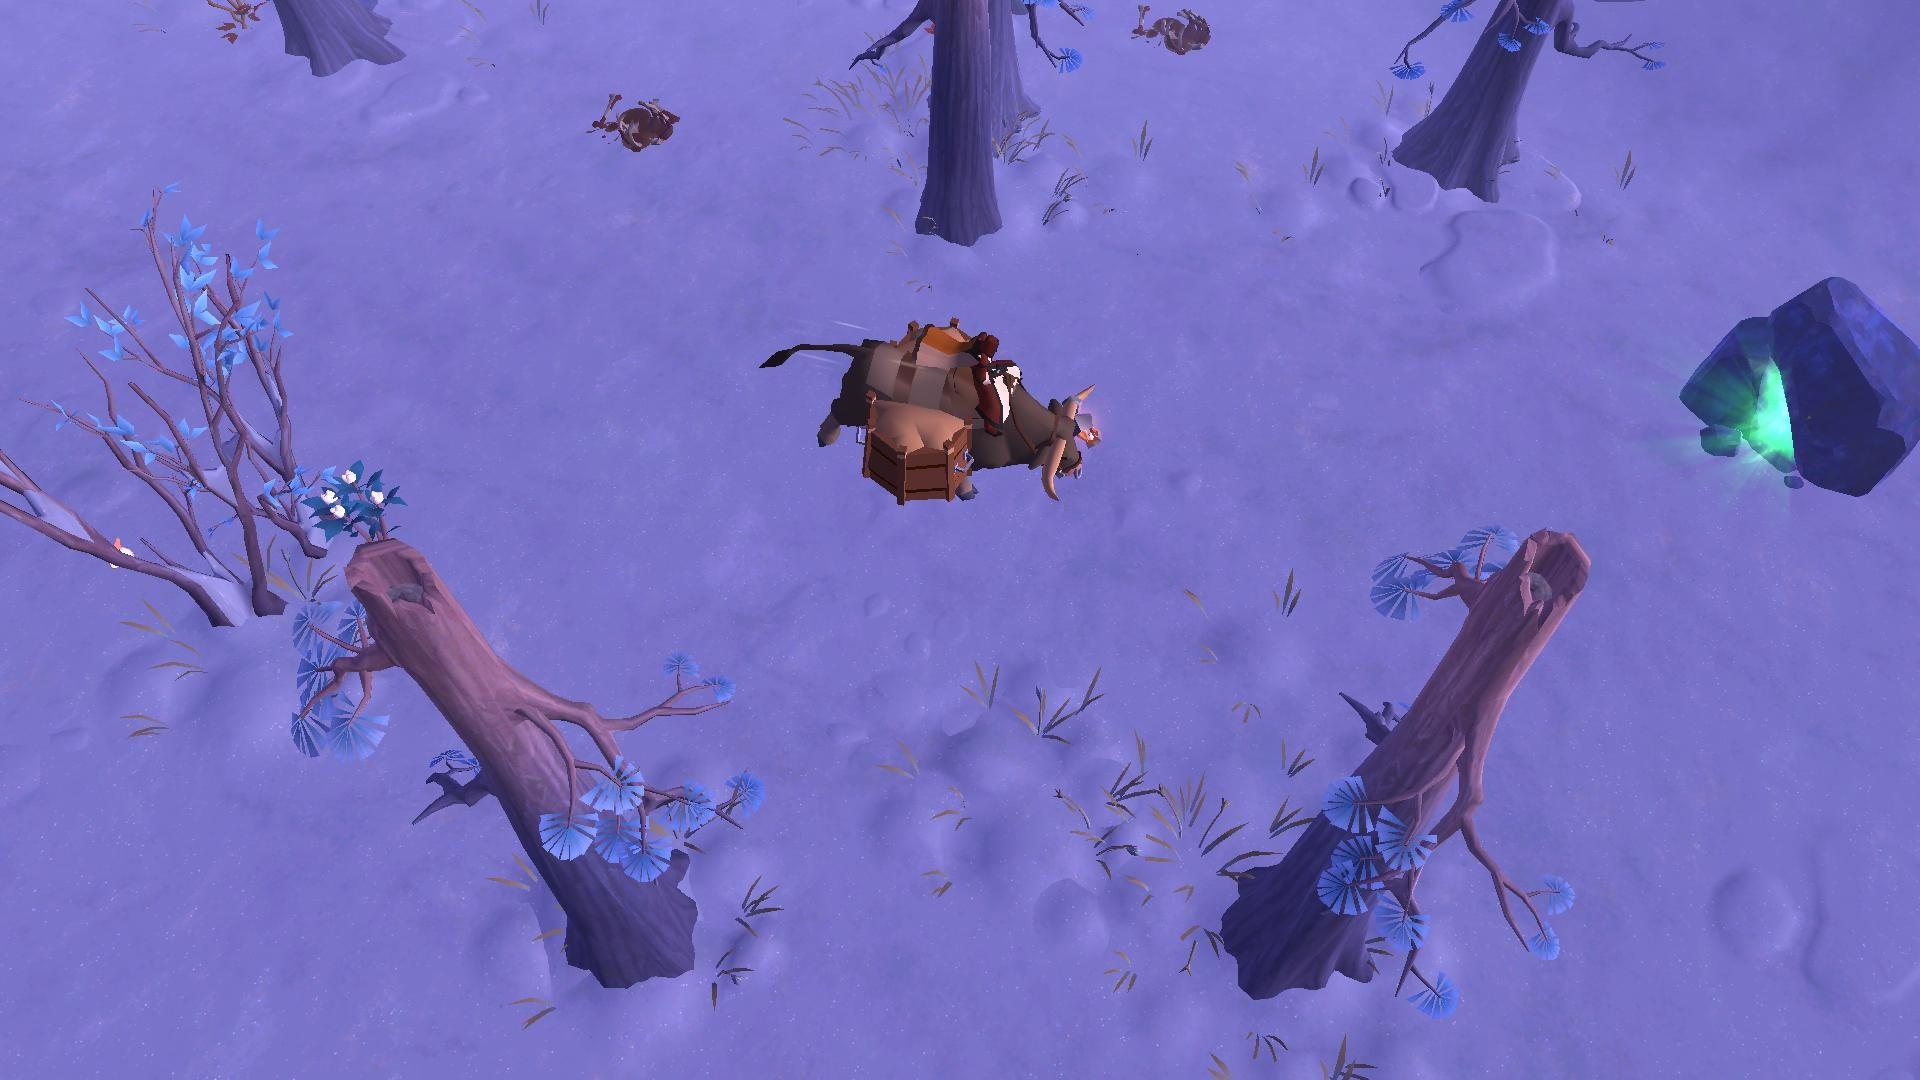fiber_t4: (305, 456, 406, 551)
